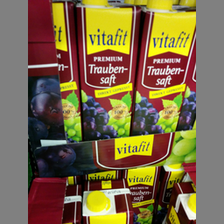juice: (75, 1, 142, 140), (130, 1, 195, 134)
